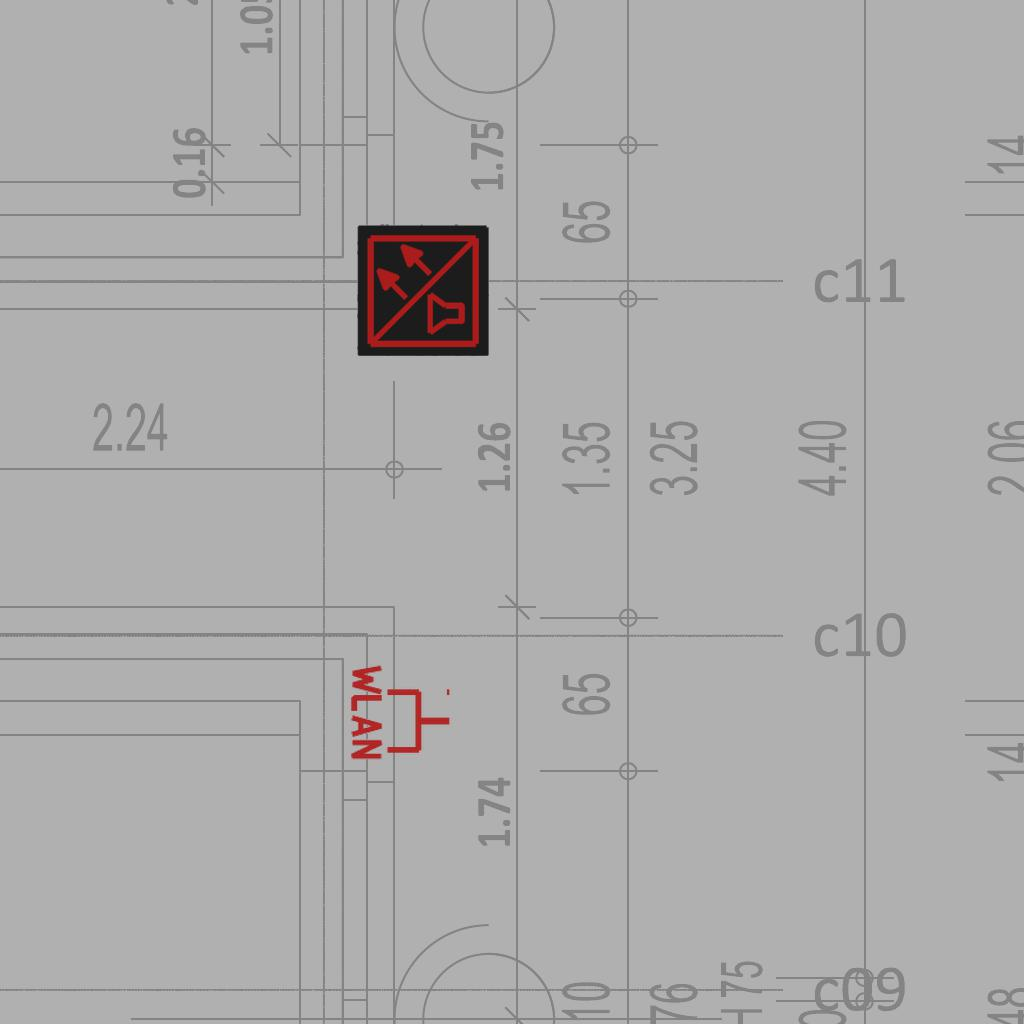OKW_Multisensormelder_(Kombination_optischer_Rauch-Kahlenmonoxid_Waerme-Melder): (357, 224, 489, 356)
WLAN: (349, 660, 454, 764)
